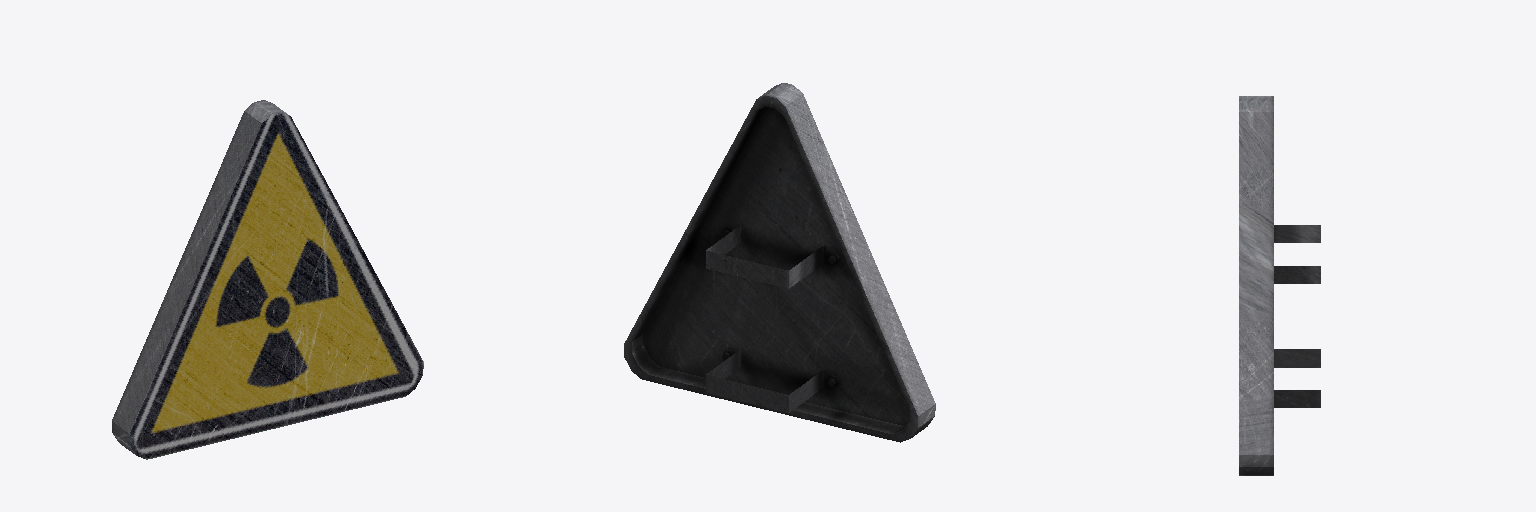
3 renders of one model, left to right at view 1: azimuth 30°, elevation 25°; view 2: azimuth 150°, elevation 25°; view 3: azimuth 270°, elevation 25°, orthographic.
Parts seen in each view (by area): view 1: PanneauTri; view 2: PanneauTri; view 3: PanneauTri.
Boxes of the visible parts, x1=… form: PanneauTri: x1=112, y1=100, x2=423, y2=459; PanneauTri: x1=624, y1=83, x2=935, y2=442; PanneauTri: x1=1239, y1=96, x2=1320, y2=475.
Bounding box in the file's own units: 71.24 × 72.67 × 17.24.
1 materials, 1 textured.